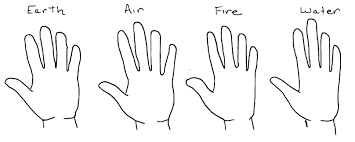palm: (288, 63, 340, 118), (126, 73, 175, 119), (27, 73, 81, 112), (213, 70, 255, 118)
